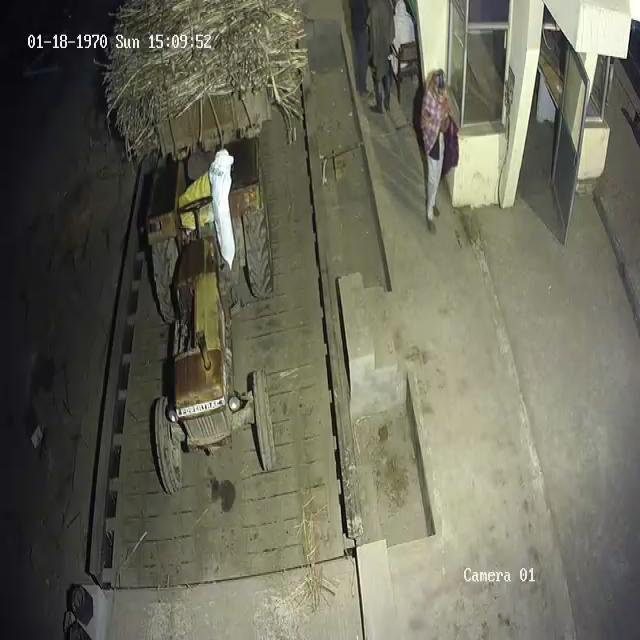Tratores - v5 YOLO V8L 2024-11-13: (150, 156, 280, 492)
